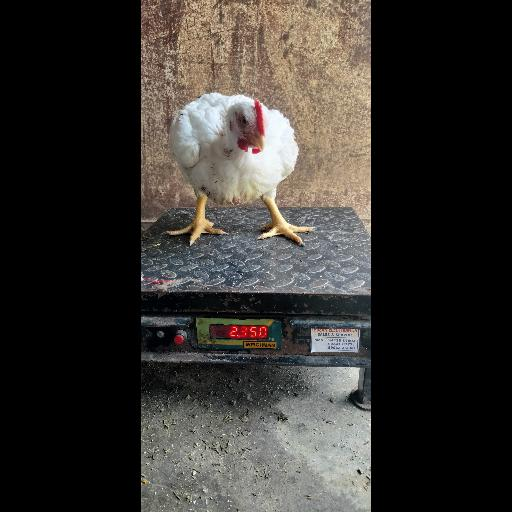chick: (167, 92, 314, 246)
